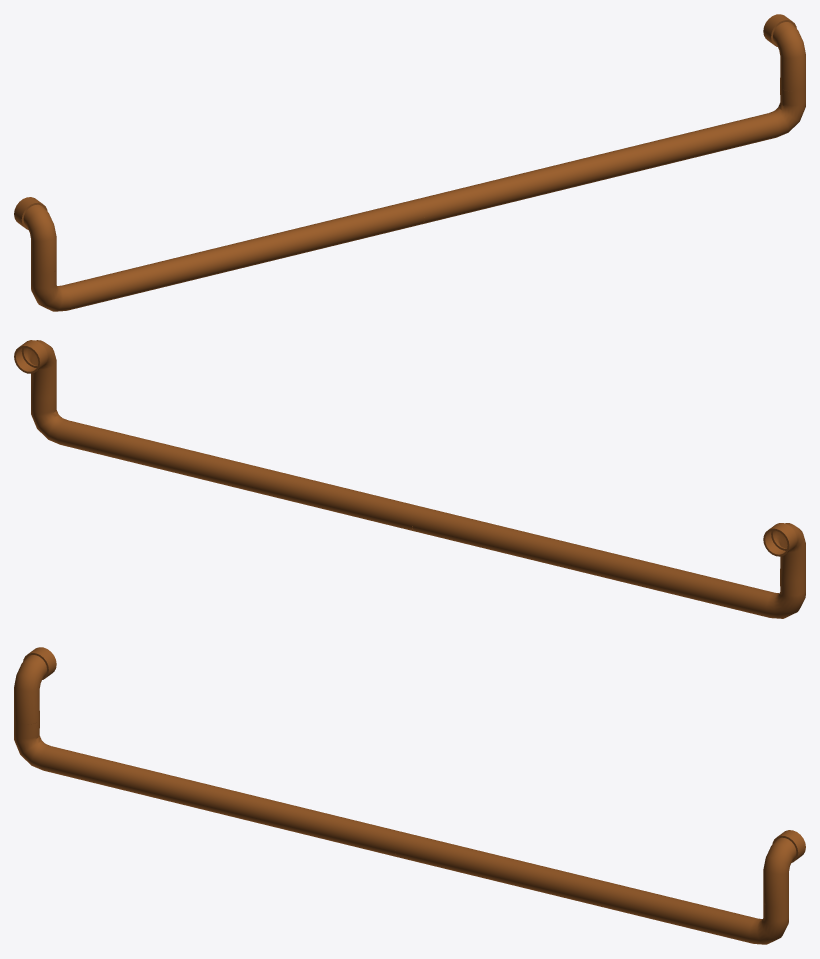
File: 11_TuboPared_02.fbx
The picture shows the model from 3 angles, top to bottom: view 1: azimuth 30°, elevation 25°; view 2: azimuth 150°, elevation 25°; view 3: azimuth 330°, elevation 25°; orthographic projection.
Visible parts, largest first — view 1: TuboPared_02; view 2: TuboPared_02; view 3: TuboPared_02.
Boxes of the visible parts, bbox=[...] form: TuboPared_02: bbox=[14, 14, 805, 311]; TuboPared_02: bbox=[14, 340, 805, 618]; TuboPared_02: bbox=[14, 647, 805, 944].
Size of the model in its own units: 2273 by 296 by 118.
